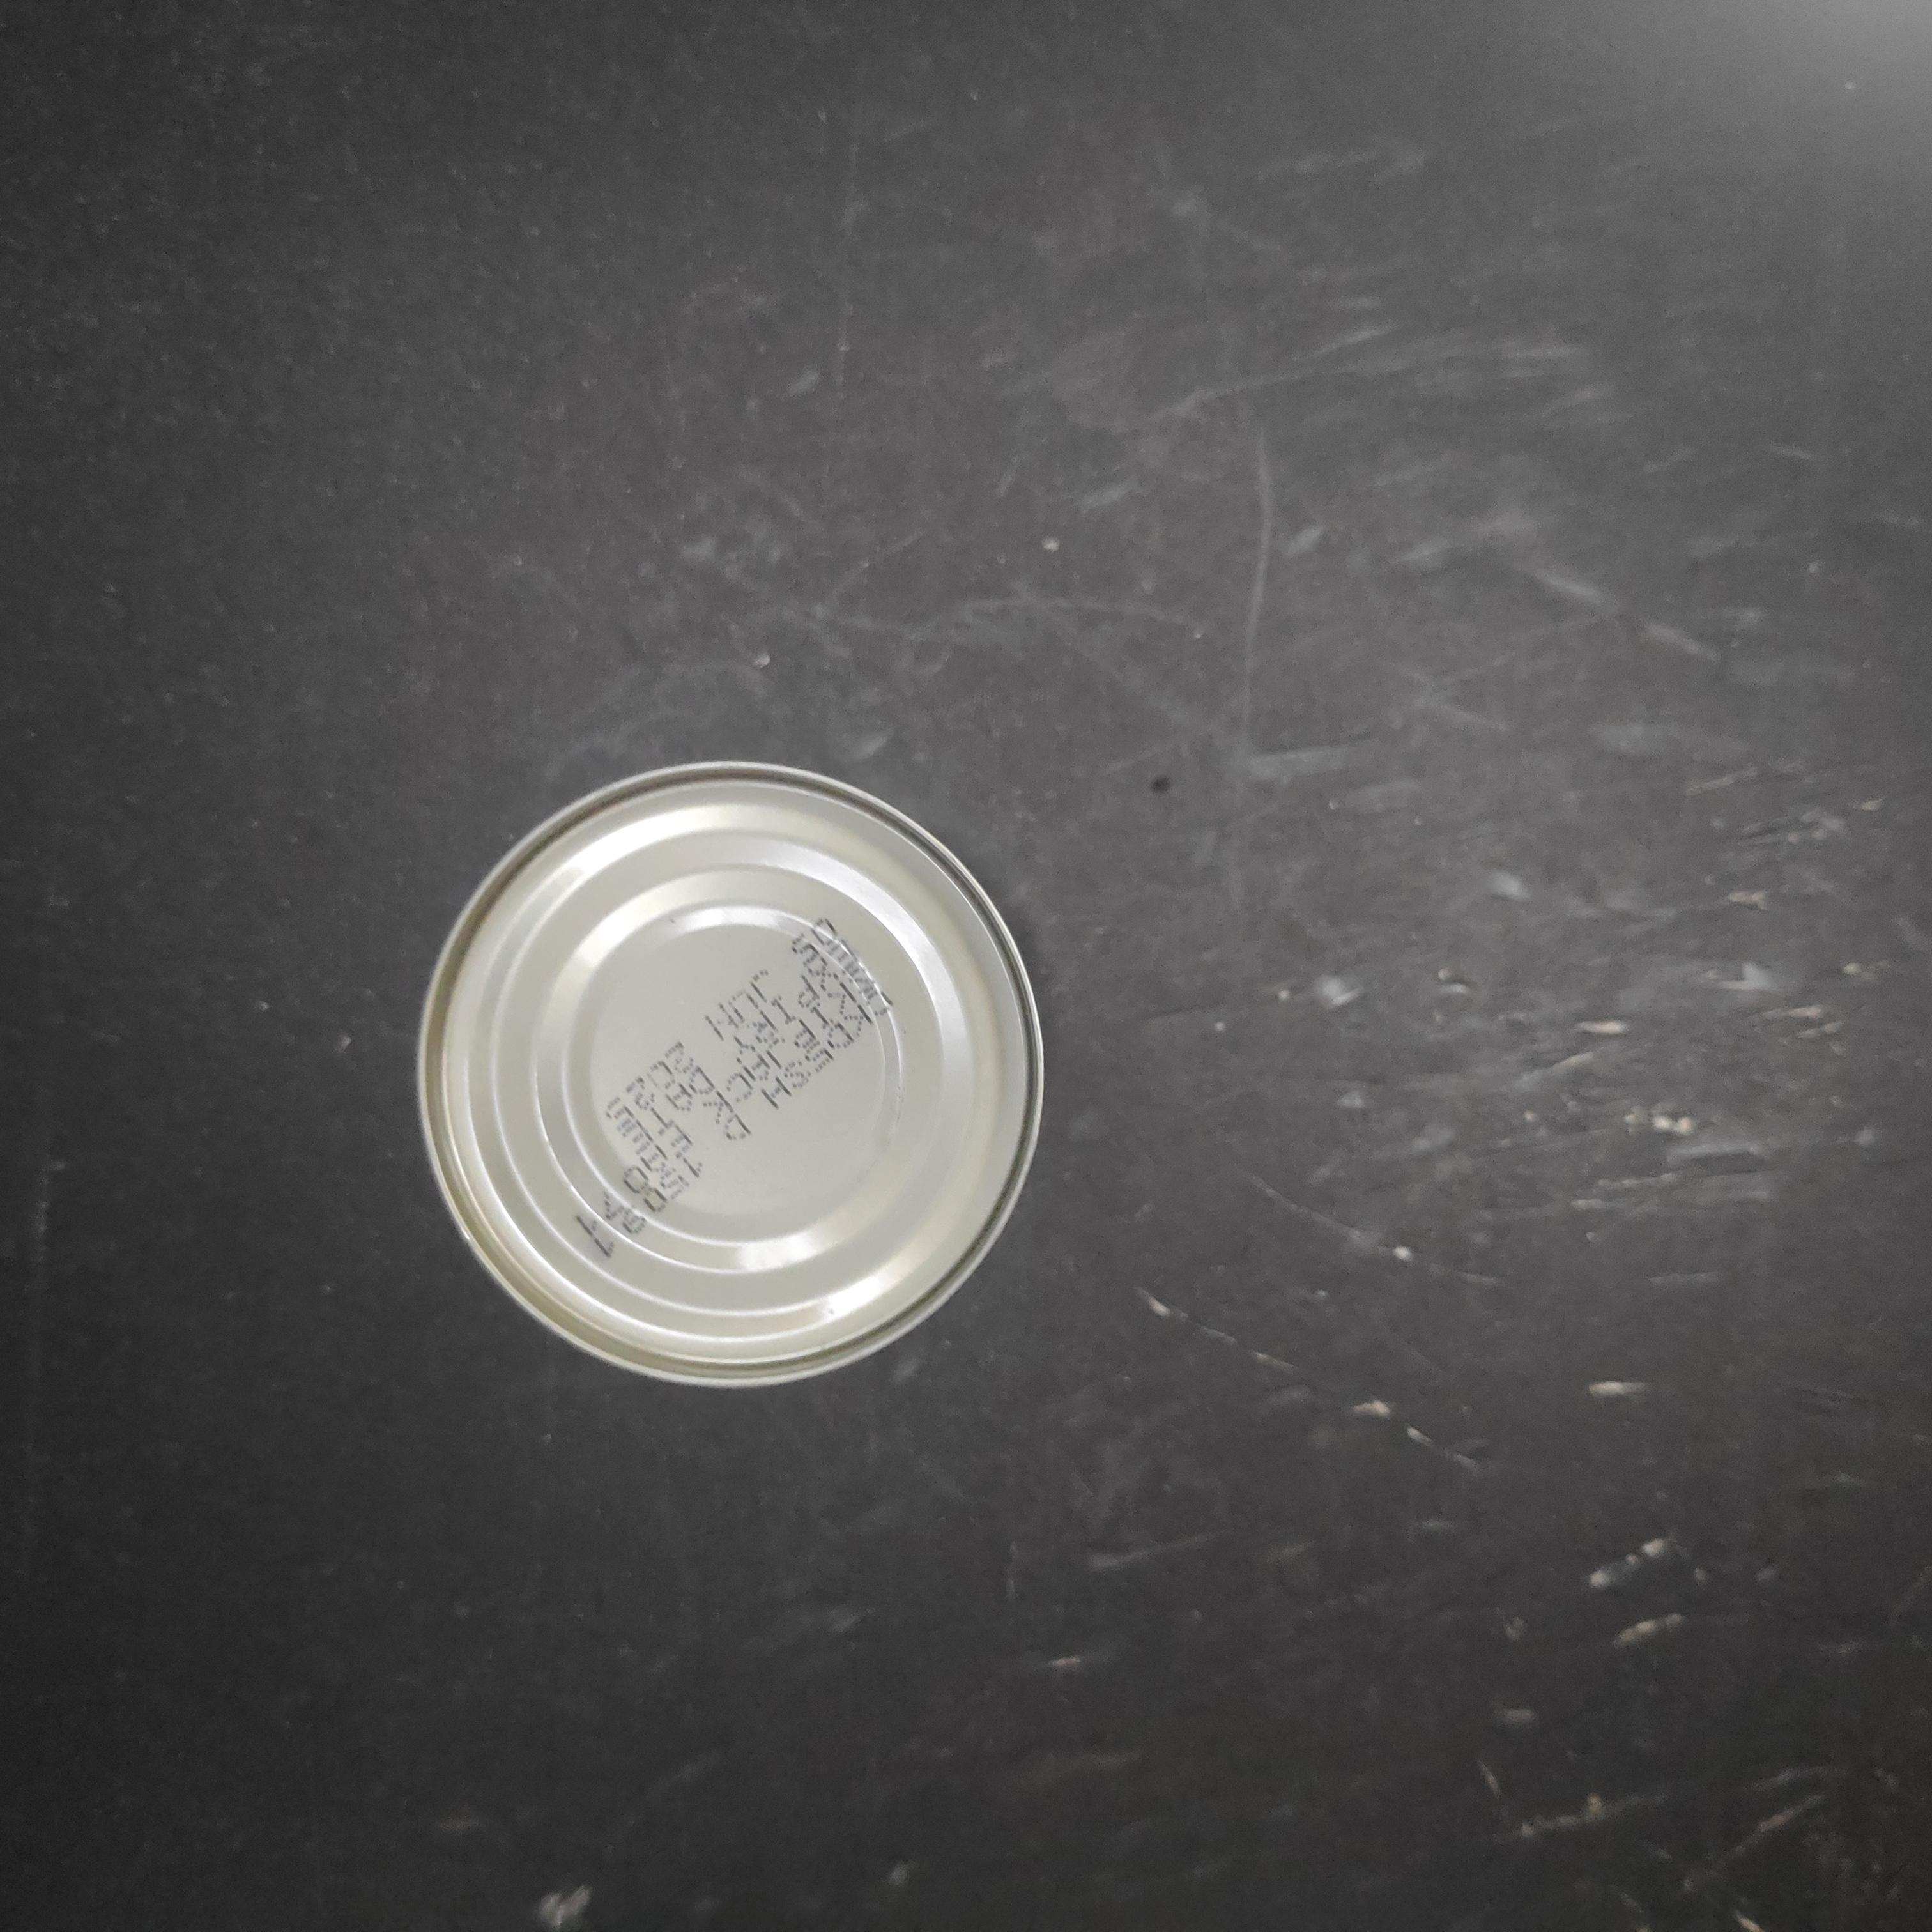No defect: (885, 540, 1518, 1173)
